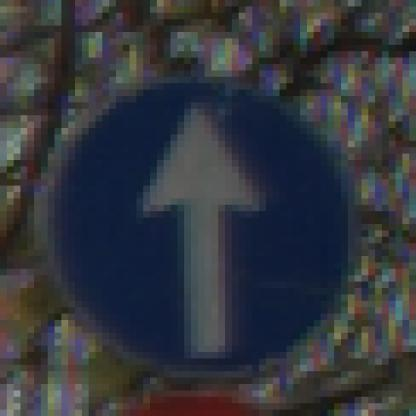AheadOnly: (42, 40, 376, 379)
